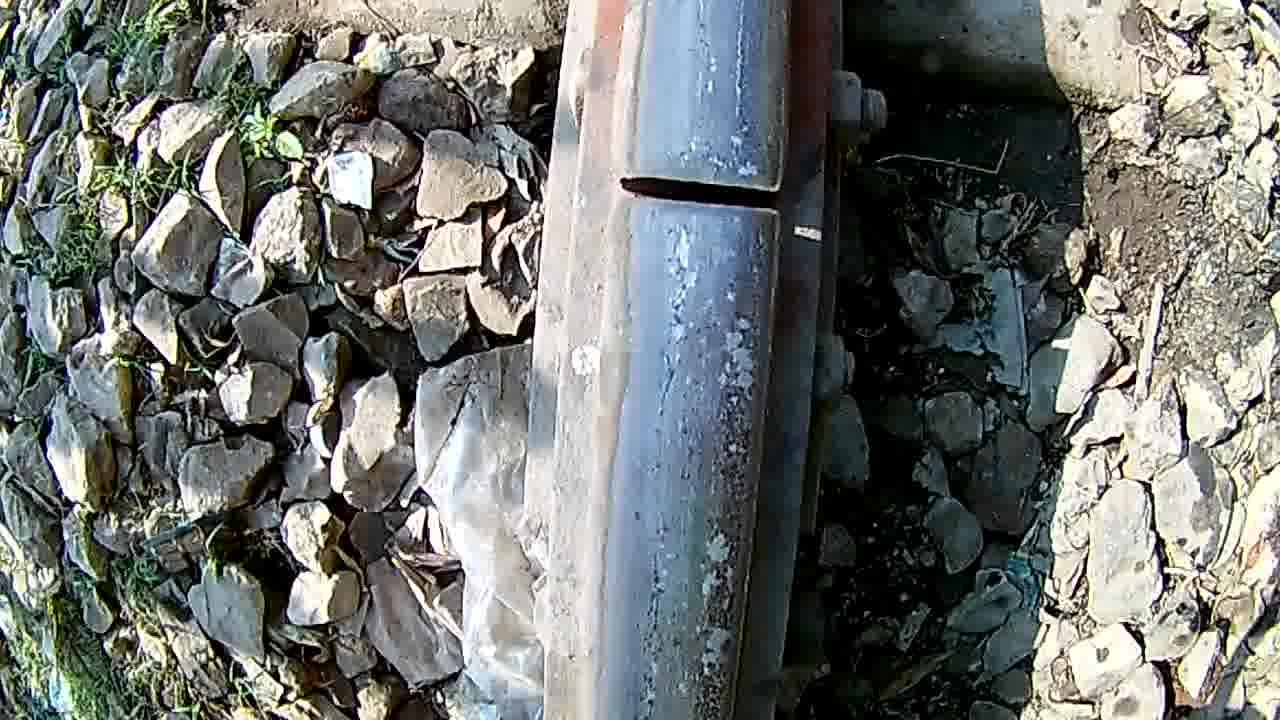clip_missing: (608, 249, 783, 720)
